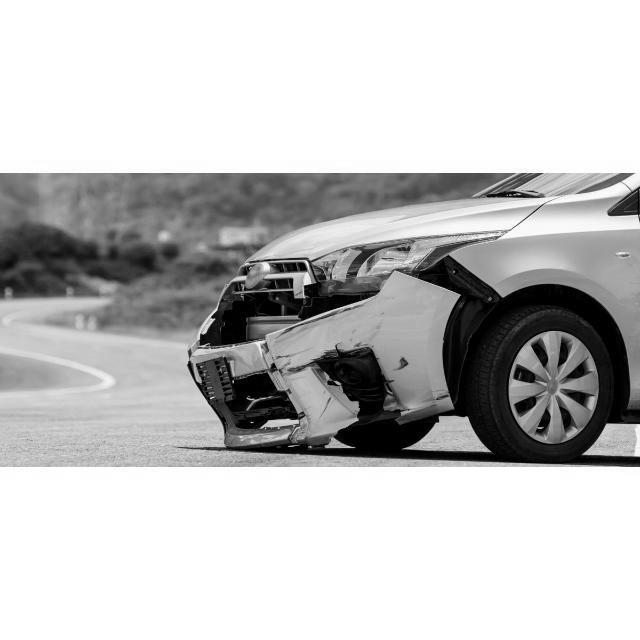front-bumper-dent: (208, 284, 380, 447), (385, 269, 474, 416)
